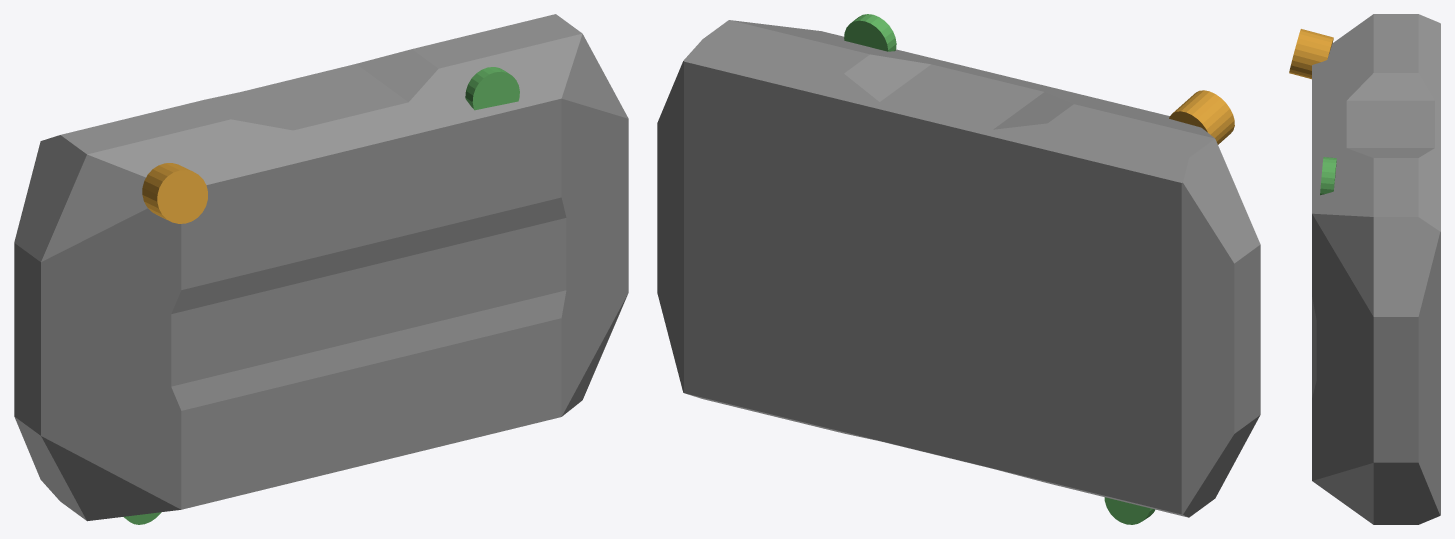
The model's file is rbvogui_xl_layout.glb.
3 views of the same model, side by side, from view 1: azimuth 30°, elevation 25°; view 2: azimuth 150°, elevation 25°; view 3: azimuth 270°, elevation 25° (orthographic). The views are drawn at different scales.
Parts seen in each view (by area): view 1: rbvogui_xl_chassis.stl, world; view 2: rbvogui_xl_chassis.stl, world; view 3: rbvogui_xl_chassis.stl, world.
Boxes of the visible parts, x1,y1,x2,y2 form: rbvogui_xl_chassis.stl: (14, 14, 628, 521); world: (123, 67, 519, 524); rbvogui_xl_chassis.stl: (657, 20, 1260, 517); world: (844, 14, 1234, 524); rbvogui_xl_chassis.stl: (1312, 14, 1440, 524); world: (1289, 29, 1336, 195).
Bounding box in the file's own units: 1.27 × 0.8452 × 0.3394.
